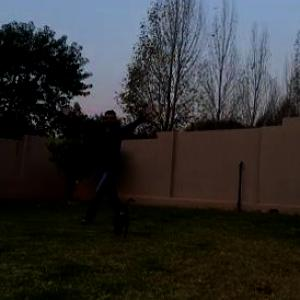takeoff: (90, 93, 192, 221)
